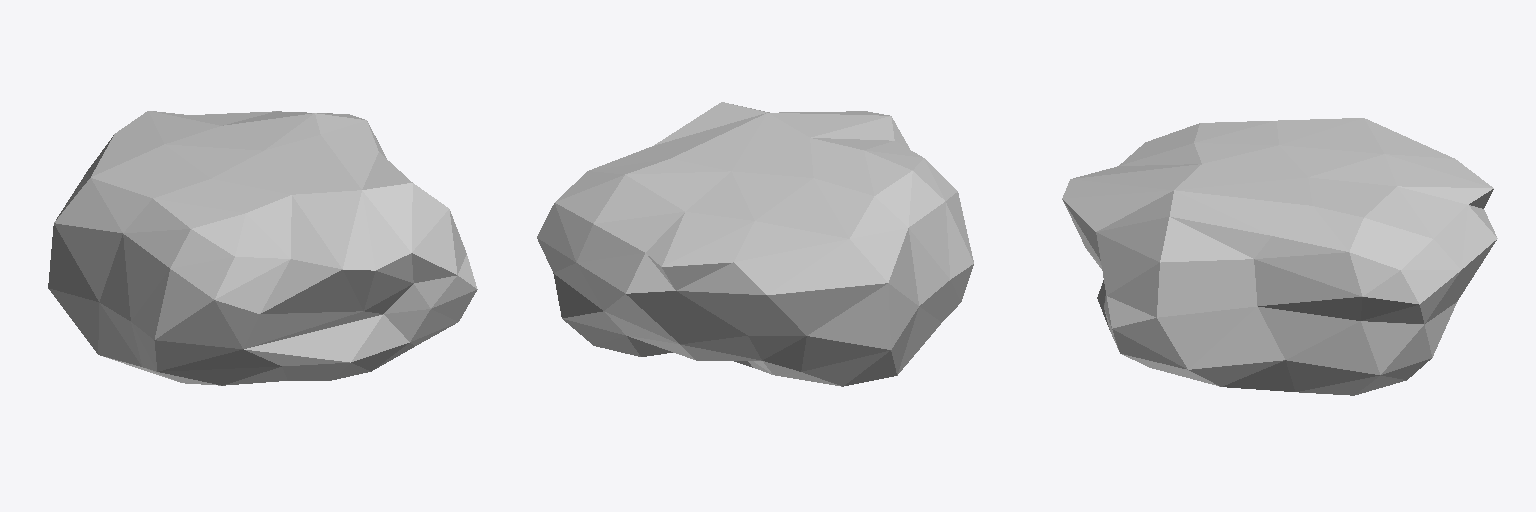
File: Rock.obj
3 renders of one model, left to right at view 1: azimuth 30°, elevation 25°; view 2: azimuth 150°, elevation 25°; view 3: azimuth 270°, elevation 25°, orthographic.
Parts seen in each view (by area): view 1: Cube; view 2: Cube; view 3: Cube.
Boxes of the visible parts, x1,y1,x2,y2 form: Cube: [48, 111, 477, 385]; Cube: [537, 102, 973, 386]; Cube: [1062, 118, 1497, 395].
Size of the model in its own units: 3.18 by 1.68 by 3.63.